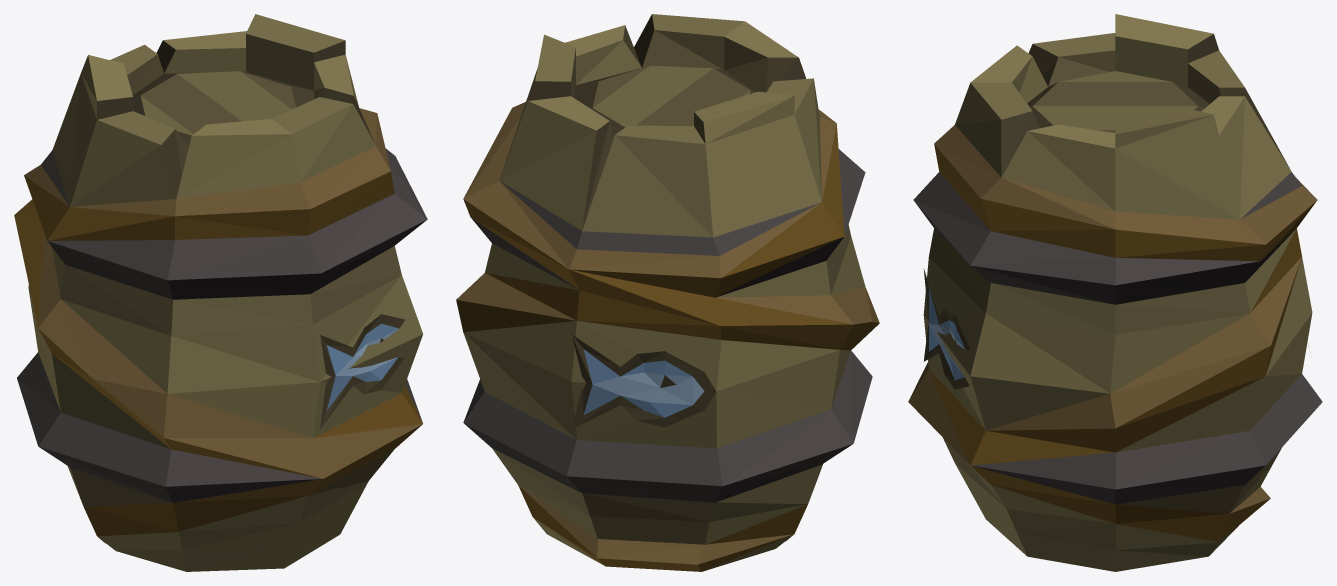
File: fish-barrel.gltf
3 renders of one model, left to right at view 1: azimuth 30°, elevation 25°; view 2: azimuth 150°, elevation 25°; view 3: azimuth 270°, elevation 25°, orthographic.
Size of the model in its own units: 80 by 95 by 80.
Materials: 1 (1 with a texture image).
